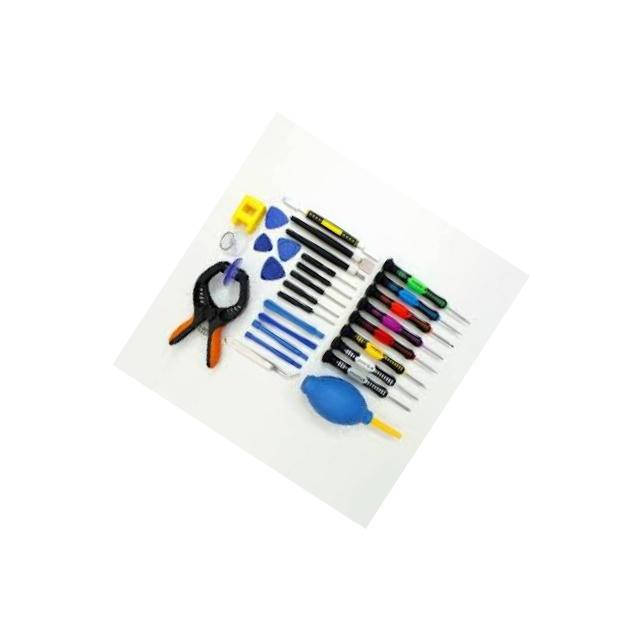screwdriver: (374, 248, 482, 330), (316, 346, 418, 422), (368, 266, 470, 342), (334, 319, 434, 395), (326, 332, 426, 407), (351, 293, 452, 367), (360, 280, 461, 353), (345, 307, 443, 378), (270, 284, 336, 334), (277, 274, 343, 322), (284, 266, 350, 312), (293, 258, 357, 304), (296, 250, 360, 296)
